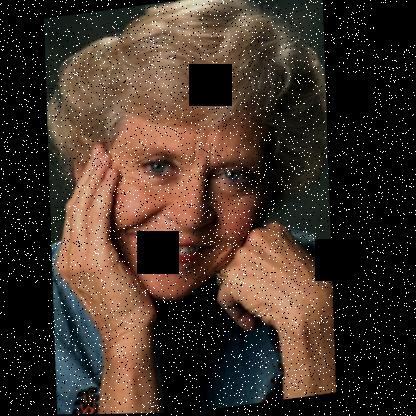Female: (58, 80, 298, 314)
